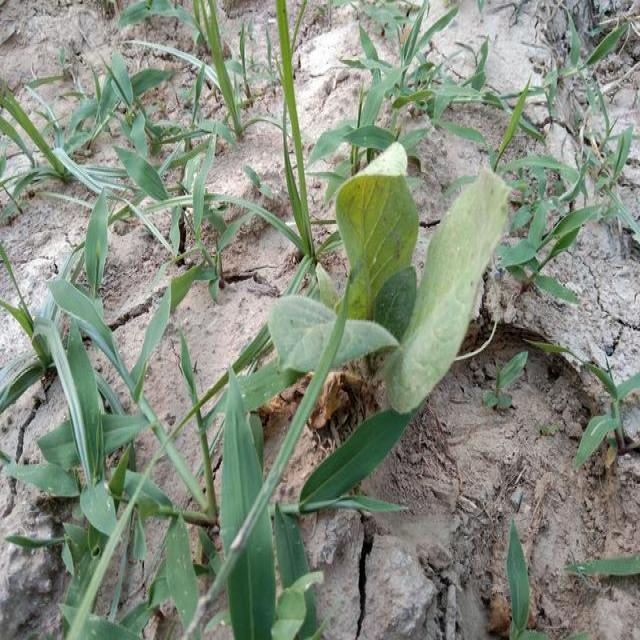crop: (259, 153, 507, 420)
